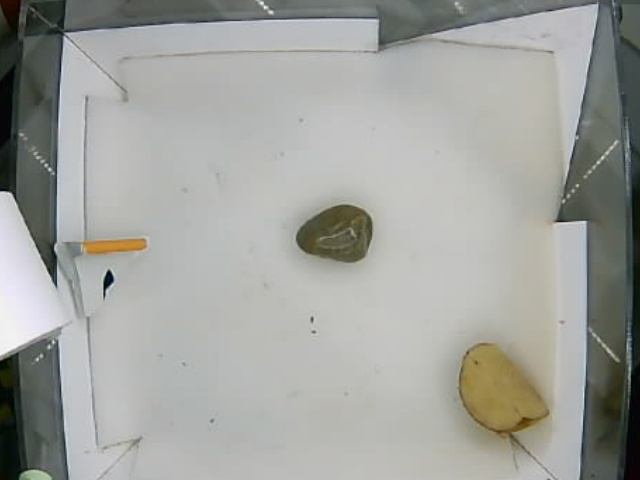China: (56, 240, 146, 320)
Pebble: (293, 204, 376, 262)
Potato: (455, 339, 551, 434)
